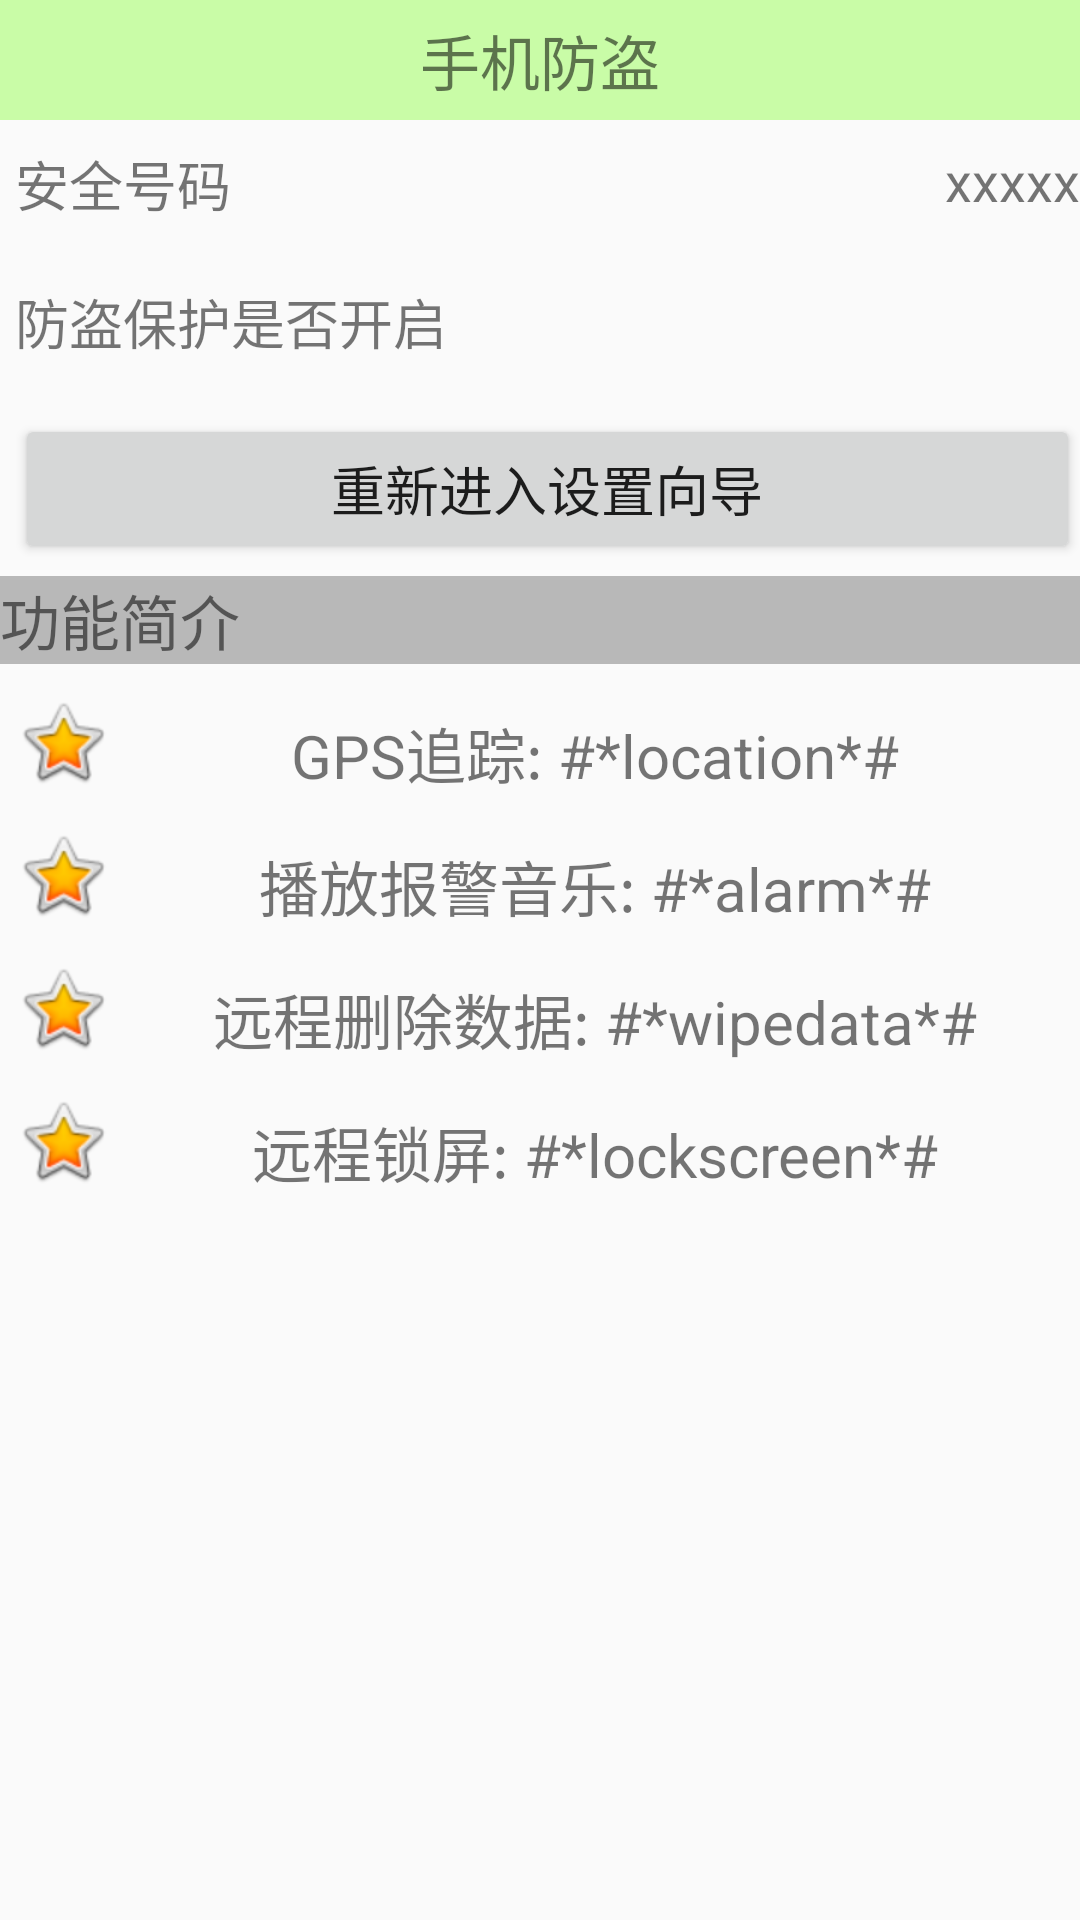

Named icons in this screenshot (1080 x 1920) and their centers, (x,y):
star on: (64,743), (64,876), (64,1009), (64,1142)
